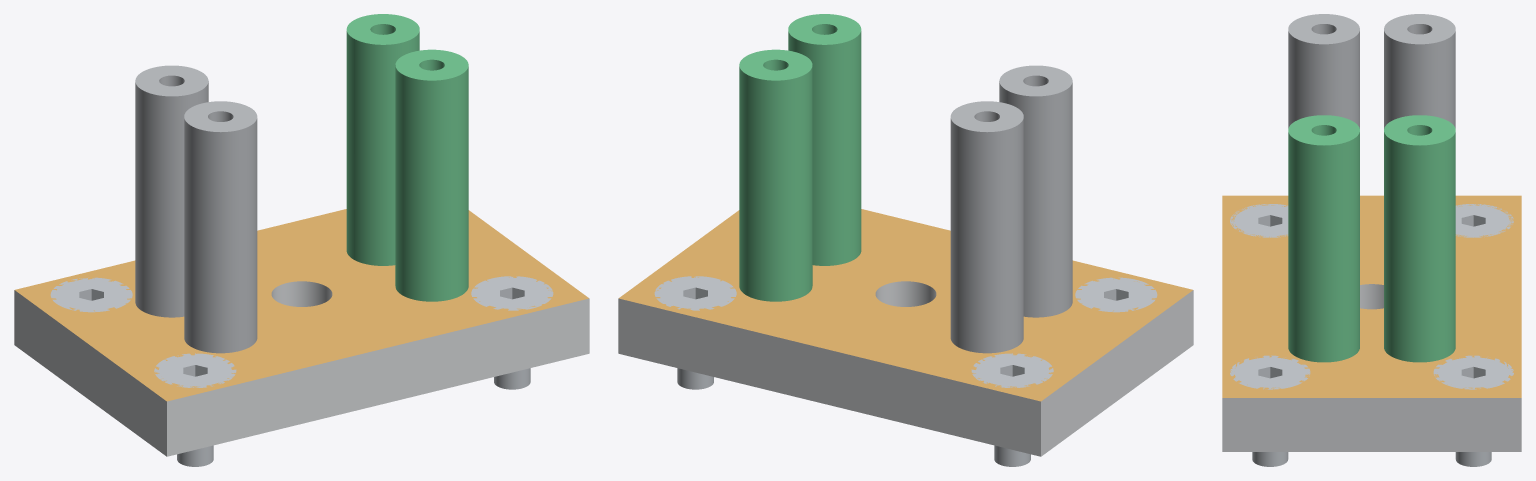
File: assembly_frame.glb
3 renders of one model, left to right at view 1: azimuth 30°, elevation 25°; view 2: azimuth 150°, elevation 25°; view 3: azimuth 270°, elevation 25°, orthographic.
Parts seen in each view (by area): view 1: Base plate-1, Post-1 (×2), Post-2 (×2), ISO 10642 M6×16-2, ISO 10642 M6×16-1, ISO 10642 M6×16-3; view 2: Base plate-1, Post-1 (×2), Post-2 (×2), ISO 10642 M6×16-4, ISO 10642 M6×16-3, ISO 10642 M6×16-1; view 3: Base plate-1, Post-2 (×2), Post-1 (×2), ISO 10642 M6×16-2, ISO 10642 M6×16-4, ISO 10642 M6×16-1, ISO 10642 M6×16-3.
Boxes of the visible parts, x1=… form: Base plate-1: x1=14, y1=209, x2=589, y2=456; Post-1 (×2): x1=135, y1=65, x2=257, y2=353; Post-2 (×2): x1=346, y1=14, x2=468, y2=301; ISO 10642 M6×16-2: x1=471, y1=276, x2=553, y2=389; ISO 10642 M6×16-1: x1=154, y1=353, x2=236, y2=466; ISO 10642 M6×16-3: x1=50, y1=277, x2=132, y2=312; Base plate-1: x1=618, y1=209, x2=1193, y2=456; Post-1 (×2): x1=950, y1=65, x2=1072, y2=353; Post-2 (×2): x1=739, y1=14, x2=861, y2=301; ISO 10642 M6×16-4: x1=654, y1=276, x2=736, y2=389; ISO 10642 M6×16-3: x1=971, y1=353, x2=1053, y2=466; ISO 10642 M6×16-1: x1=1075, y1=277, x2=1157, y2=312; Base plate-1: x1=1222, y1=195, x2=1521, y2=451; Post-2 (×2): x1=1288, y1=115, x2=1455, y2=362; Post-1 (×2): x1=1288, y1=14, x2=1455, y2=128; ISO 10642 M6×16-2: x1=1230, y1=355, x2=1310, y2=466; ISO 10642 M6×16-4: x1=1433, y1=355, x2=1513, y2=466; ISO 10642 M6×16-1: x1=1230, y1=204, x2=1288, y2=237; ISO 10642 M6×16-3: x1=1455, y1=204, x2=1513, y2=237.
Bounding box in the file's own units: 0.08 × 0.056 × 0.05.
